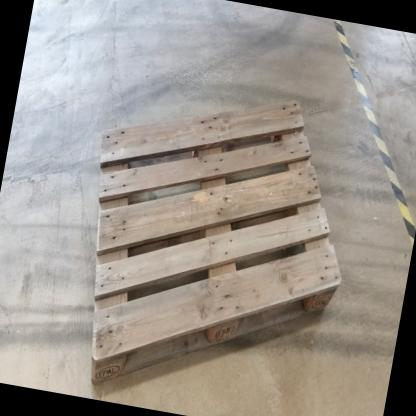BoxFace: (90, 96, 346, 390)
